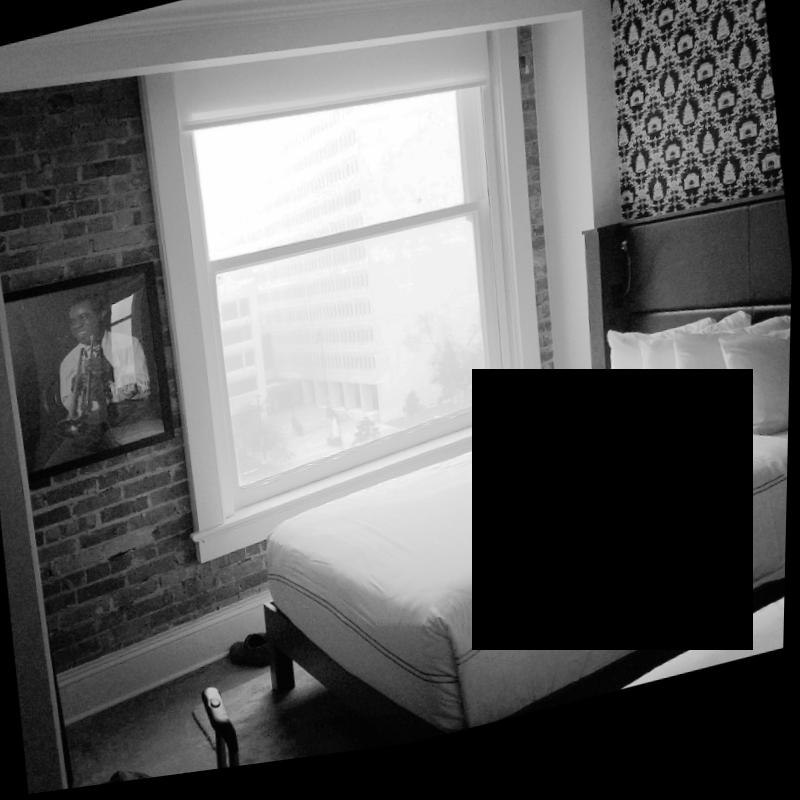pillow: (670, 317, 793, 454), (634, 325, 759, 444), (597, 327, 717, 447), (718, 331, 793, 480)
